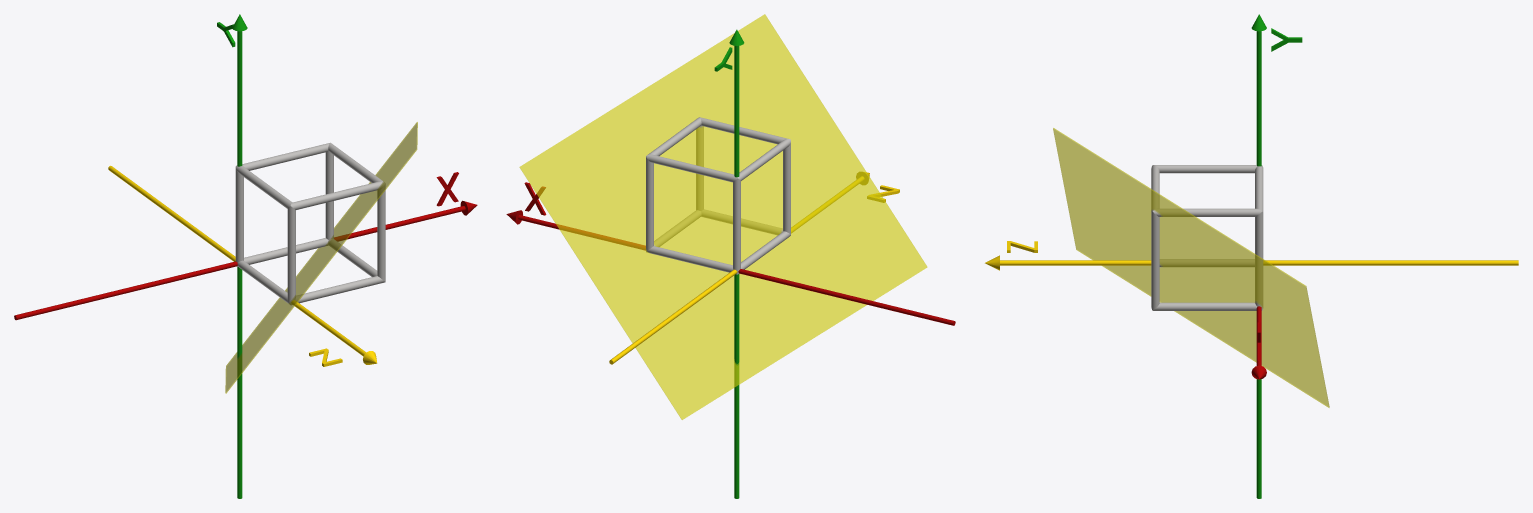
Rendered from Miller Index Example R1.glb.
3 views of the same model, side by side, from view 1: azimuth 30°, elevation 25°; view 2: azimuth 150°, elevation 25°; view 3: azimuth 270°, elevation 25° (orthographic). The views are drawn at different scales.
Parts seen in each view (by area): view 1: Solid1 (×14), Solid3, Solid2; view 2: Solid1 (×13), Solid3, Solid2; view 3: Solid1 (×7), Solid2, Solid3.
Boxes of the visible parts, bbox=[...] form: Solid1 (×14): bbox=[14, 122, 477, 393]; Solid3: bbox=[232, 14, 247, 498]; Solid2: bbox=[108, 165, 377, 364]; Solid1 (×13): bbox=[506, 14, 955, 419]; Solid3: bbox=[729, 29, 744, 498]; Solid2: bbox=[609, 172, 869, 364]; Solid1 (×7): bbox=[1053, 128, 1329, 407]; Solid2: bbox=[985, 255, 1518, 270]; Solid3: bbox=[1251, 14, 1266, 498].
Bounding box in the file's own units: 0.515 × 0.515 × 0.515.
